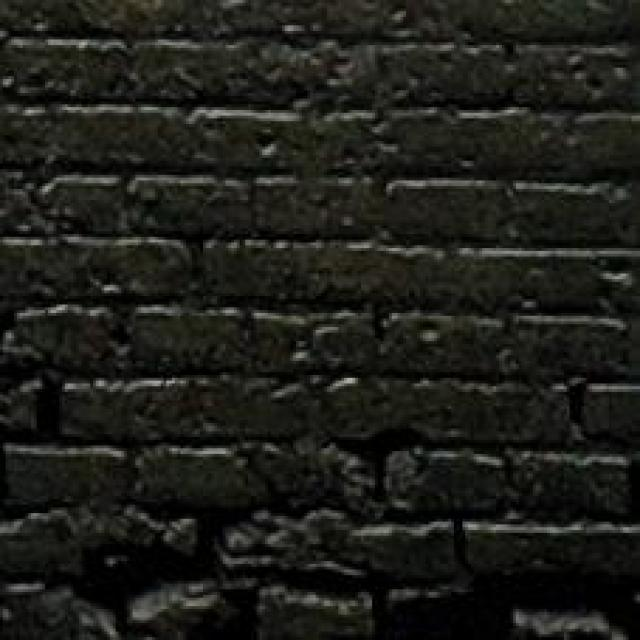Crack: (0, 415, 640, 640)
